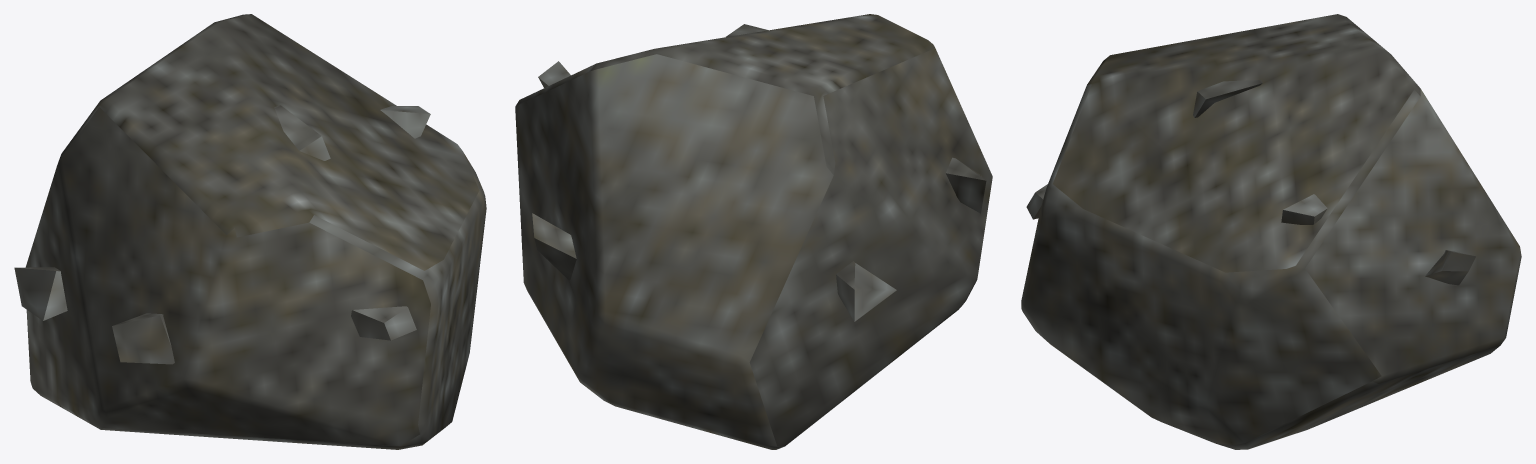
Rendered from SulfurOreNew.fbx.
3 renders of one model, left to right at view 1: azimuth 30°, elevation 25°; view 2: azimuth 150°, elevation 25°; view 3: azimuth 270°, elevation 25°, orthographic. The views are drawn at different scales.
Parts seen in each view (by area): view 1: Cube.008; view 2: Cube.008; view 3: Cube.008.
Part boxes in pixels (x1,y1,x2,y2): Cube.008: (14, 14, 486, 449); Cube.008: (515, 14, 992, 449); Cube.008: (1021, 14, 1521, 449).
Bounding box in the file's own units: 192 × 162 × 213.
